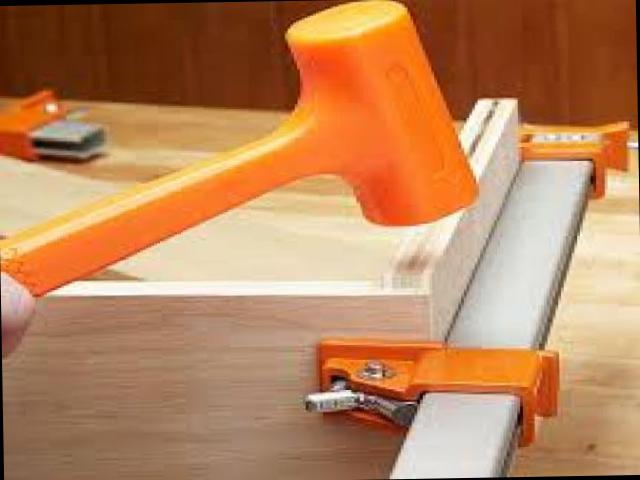hammer: (0, 0, 486, 310)
